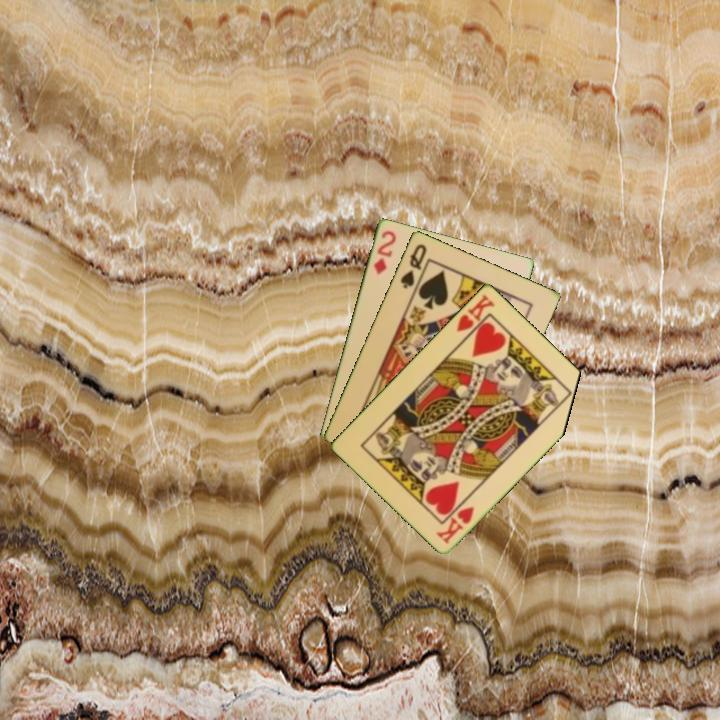2d: (370, 227, 399, 277)
Kh: (453, 290, 498, 343), (433, 502, 477, 546)
Qs: (397, 240, 429, 291)
